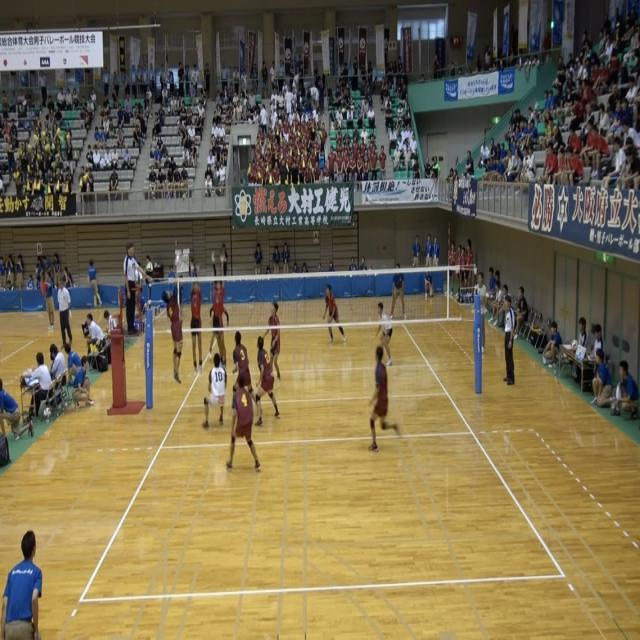spike: (158, 254, 189, 391)
